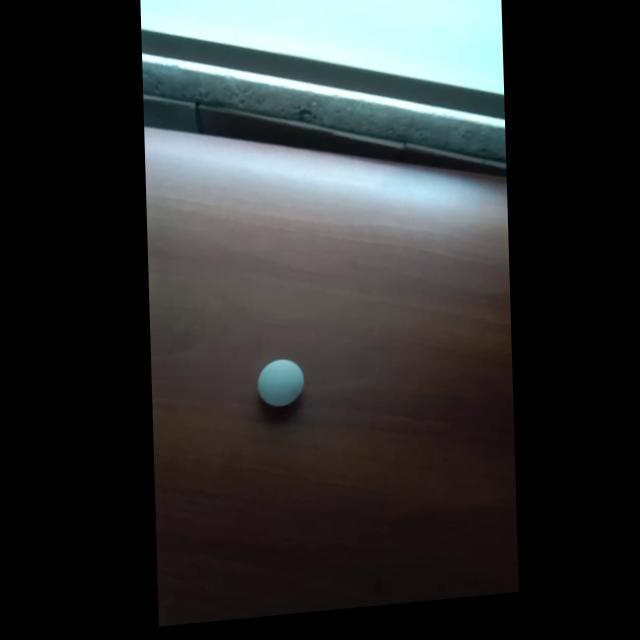white ball: (255, 357, 305, 410)
